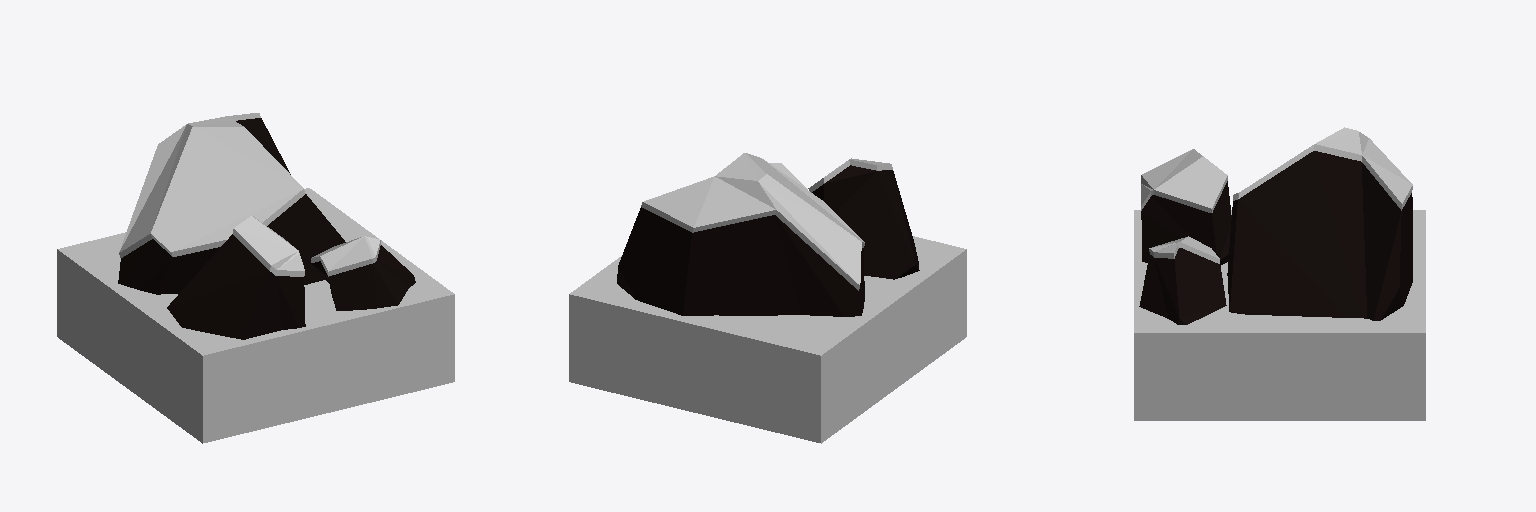
File: Tile_Rock_3.obj
3 views of the same model, side by side, from view 1: azimuth 30°, elevation 25°; view 2: azimuth 150°, elevation 25°; view 3: azimuth 270°, elevation 25° (orthographic).
Parts seen in each view (by area): view 1: Cube, Cube.001, Cube.002, Cube.008_Cube.009; view 2: Cube, Cube.001, Cube.002; view 3: Cube, Cube.001, Cube.002, Cube.008_Cube.009.
Boxes of the visible parts, box(x1,y1,x2,y2) form: Cube: box(57, 188, 454, 443); Cube.001: box(118, 113, 345, 294); Cube.002: box(167, 216, 305, 339); Cube.008_Cube.009: box(311, 236, 415, 310); Cube: box(569, 236, 966, 443); Cube.001: box(617, 153, 864, 316); Cube.002: box(808, 158, 919, 279); Cube: box(1134, 210, 1425, 420); Cube.001: box(1227, 127, 1412, 320); Cube.002: box(1141, 149, 1231, 264); Cube.008_Cube.009: box(1139, 236, 1226, 324).
Bounding box in the file's own units: 3 × 2.61 × 3.